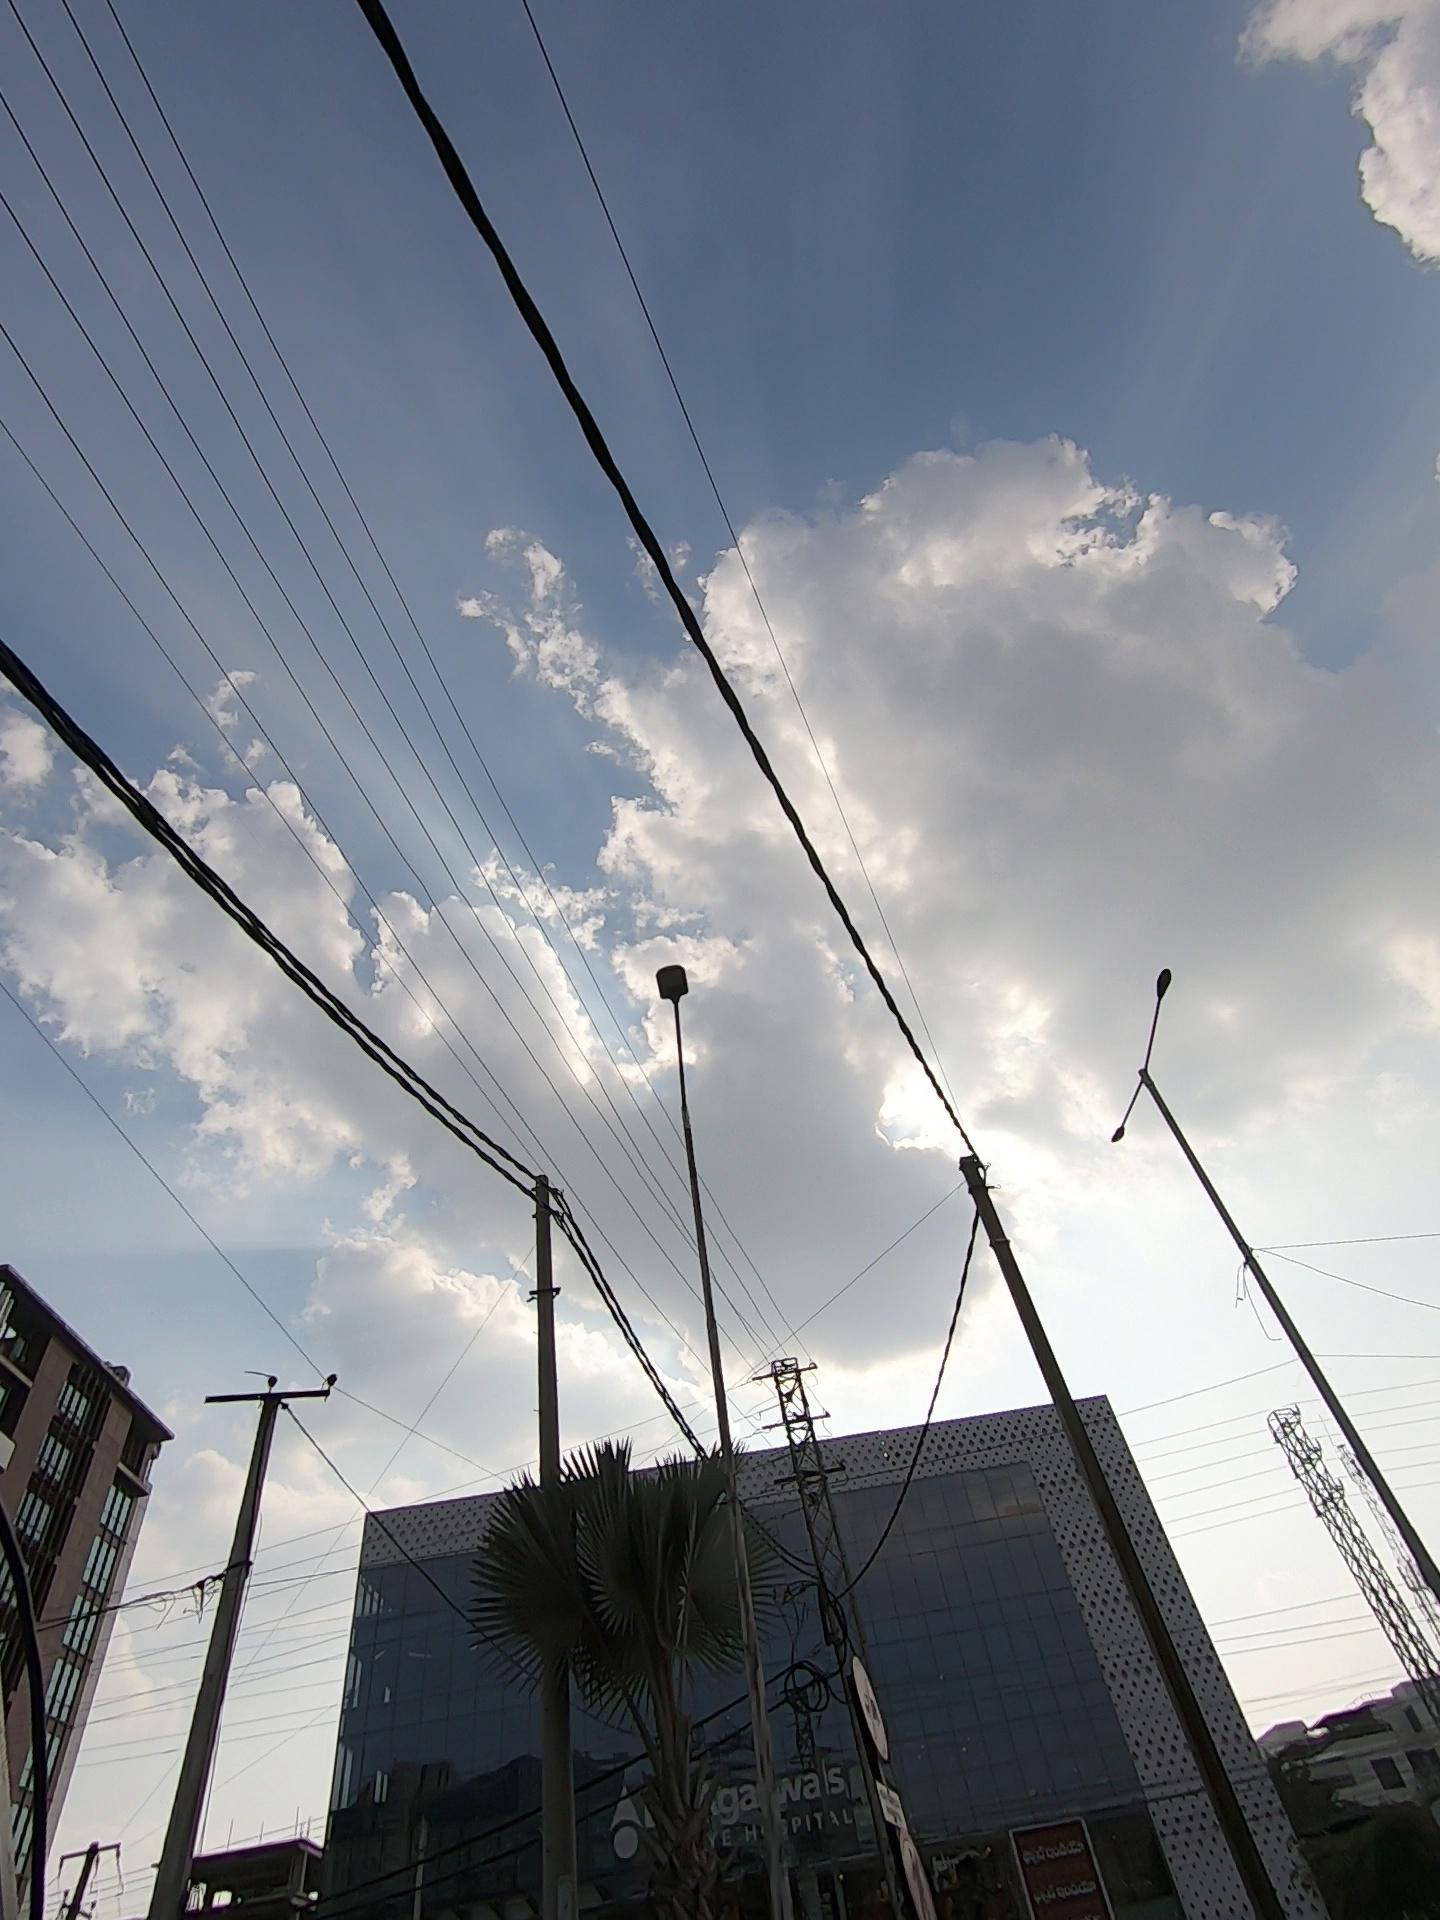off: (961, 890, 1271, 1203), (590, 966, 823, 1172)
